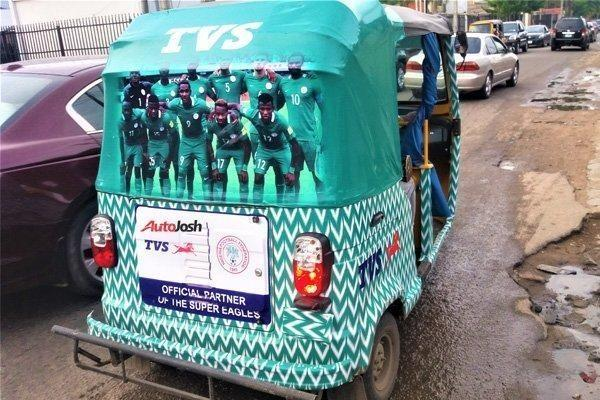keke: (81, 4, 464, 400)
